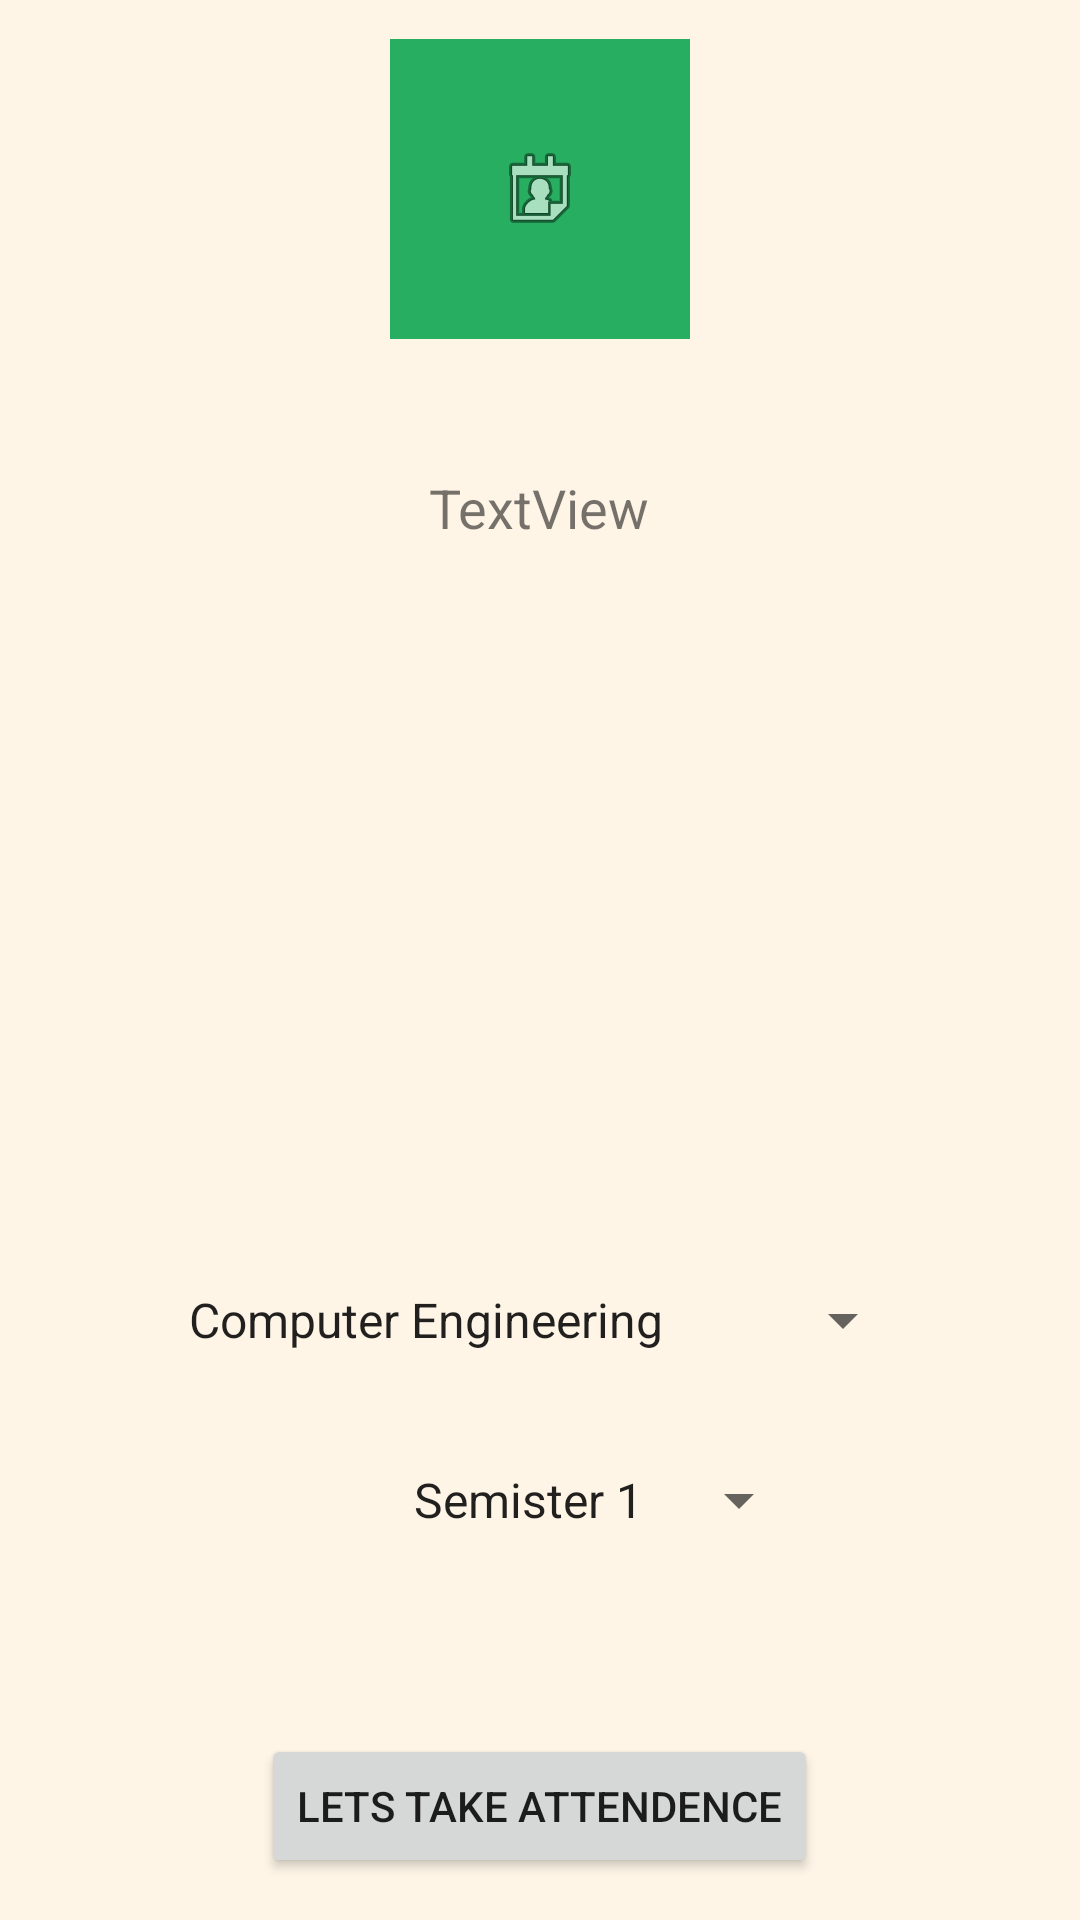

Locate icon controls on the screen. Image size 1080*1920, boxes as [left=x1, top=y1, right=x2, bottom=y2].
calendar: [left=390, top=39, right=690, bottom=339]
